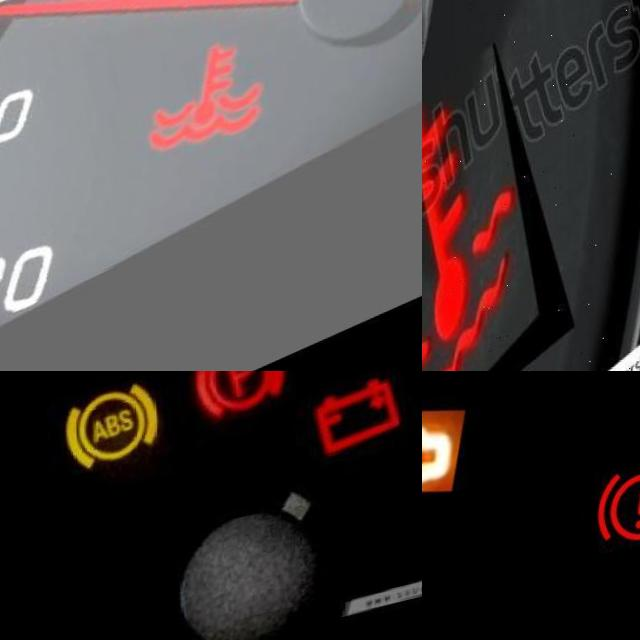Engine cooling system: (129, 43, 277, 200)
